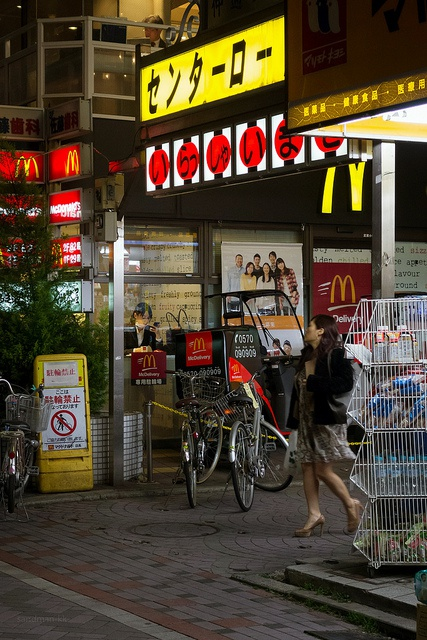non-vehicle: (228, 365, 292, 510), (160, 368, 225, 508), (0, 378, 52, 516)
